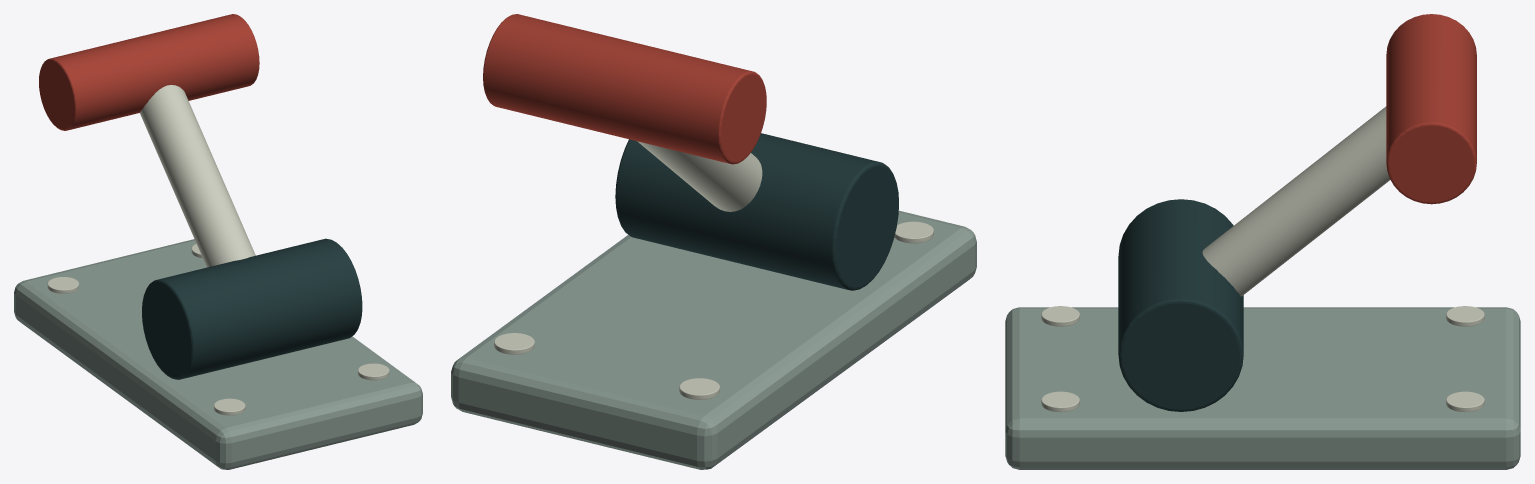
The model's file is emergency_lever.glb.
3 views of the same model, side by side, from view 1: azimuth 30°, elevation 25°; view 2: azimuth 150°, elevation 25°; view 3: azimuth 270°, elevation 25° (orthographic). The views are drawn at different scales.
Parts seen in each view (by area): view 1: emergency_lever; view 2: emergency_lever; view 3: emergency_lever.
Boxes of the visible parts, box(x1,y1,x2,y2) form: emergency_lever: box(14, 14, 422, 469); emergency_lever: box(451, 14, 976, 469); emergency_lever: box(1005, 14, 1520, 469).
Bounding box in the file's own units: 0.1402 × 0.1849 × 0.25.
